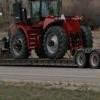Tractor: (11, 4, 89, 65)
